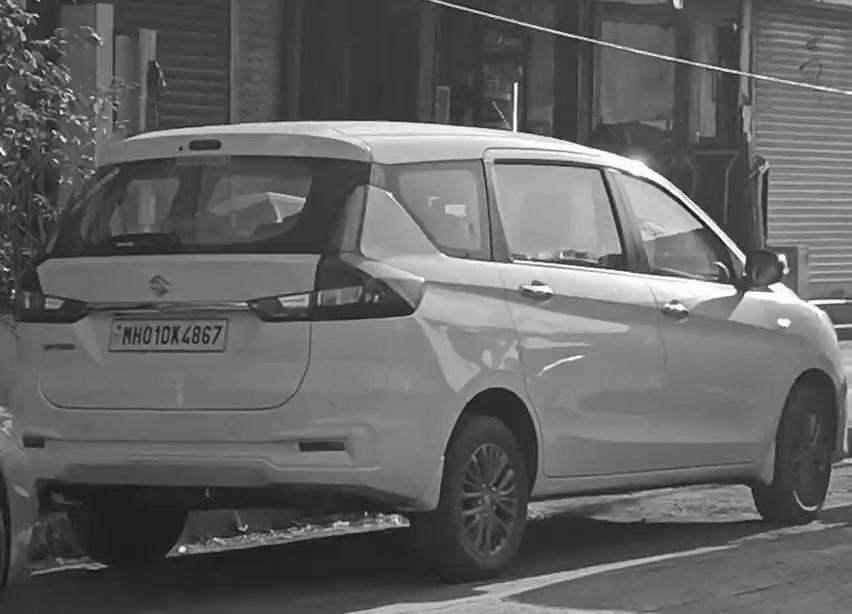number_plate: (116, 320, 226, 352)
